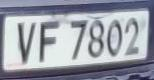0: (106, 14, 126, 64)
2: (124, 13, 143, 61)
7: (66, 18, 90, 67)
8: (86, 16, 108, 66)
F: (37, 19, 63, 67)
V: (14, 19, 38, 68)
